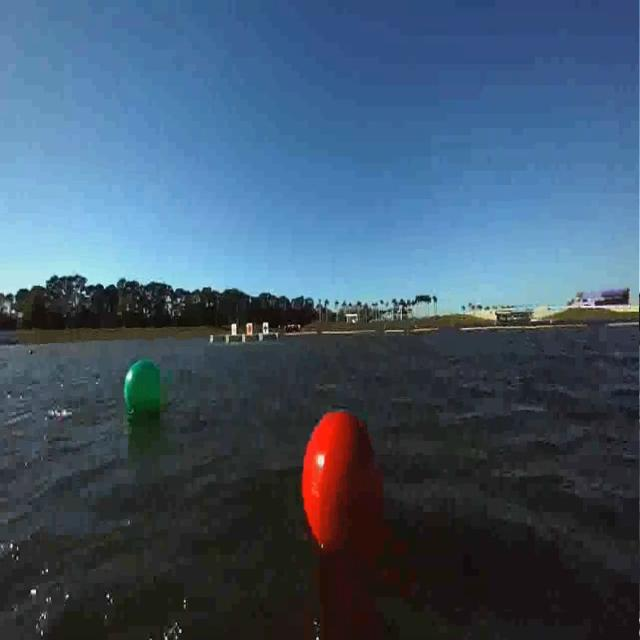green-buoy: (122, 356, 168, 418)
red-buoy: (300, 408, 390, 560)
